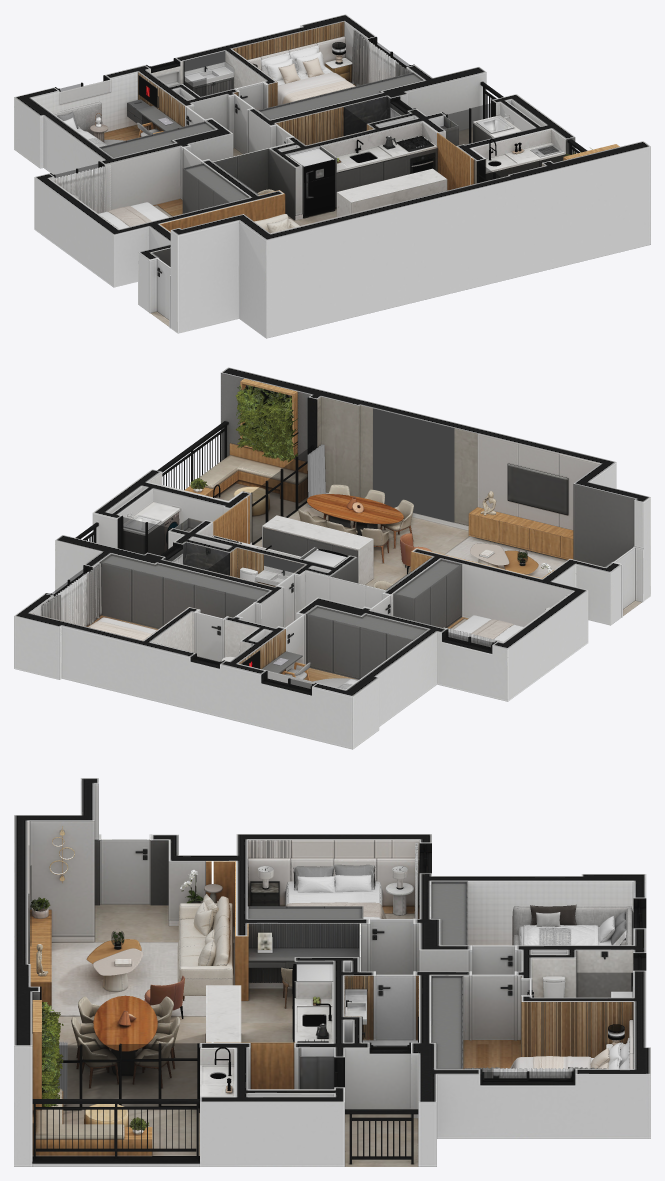
Rendered from apartment-floorplan.glb.
The picture shows the model from 3 angles, top to bottom: view 1: azimuth 30°, elevation 25°; view 2: azimuth 150°, elevation 25°; view 3: azimuth 270°, elevation 25°; orthographic projection. The views are drawn at different scales.
Parts seen in each view (by area): view 1: rendertotexture_0, moveis_2, vidro_7, metais_9, espelho_5; view 2: rendertotexture_0, espelho_5, vidro_7, plantas_8, moveis_2, cortina_1; view 3: rendertotexture_0, moveis_2, vidro_7, plantas_8, metais_9.
Part boxes in pixels (x1,y1,x2,y2): rendertotexture_0: [14, 14, 650, 338]; moveis_2: [53, 45, 355, 233]; vidro_7: [55, 39, 500, 182]; metais_9: [350, 114, 562, 166]; espelho_5: [184, 51, 494, 198]; rendertotexture_0: [14, 367, 650, 749]; espelho_5: [157, 408, 454, 651]; vidro_7: [52, 446, 527, 689]; plantas_8: [190, 385, 298, 489]; moveis_2: [88, 491, 523, 689]; cortina_1: [307, 444, 325, 507]; rendertotexture_0: [14, 778, 650, 1166]; moveis_2: [36, 864, 633, 1069]; vidro_7: [58, 900, 630, 1106]; plantas_8: [30, 897, 149, 1130]; metais_9: [210, 1003, 331, 1089].
Bounding box in the file's own units: 10.72 × 2.3 × 10.74.
9 materials, 4 textured.
